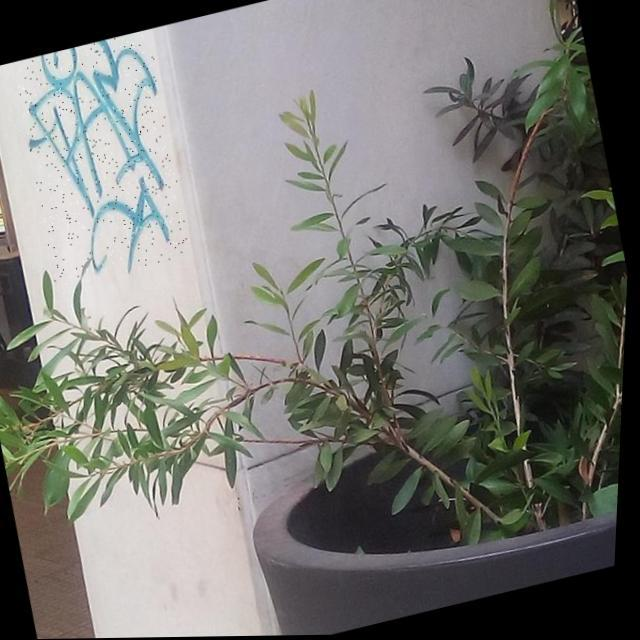-: (6, 28, 201, 290)
